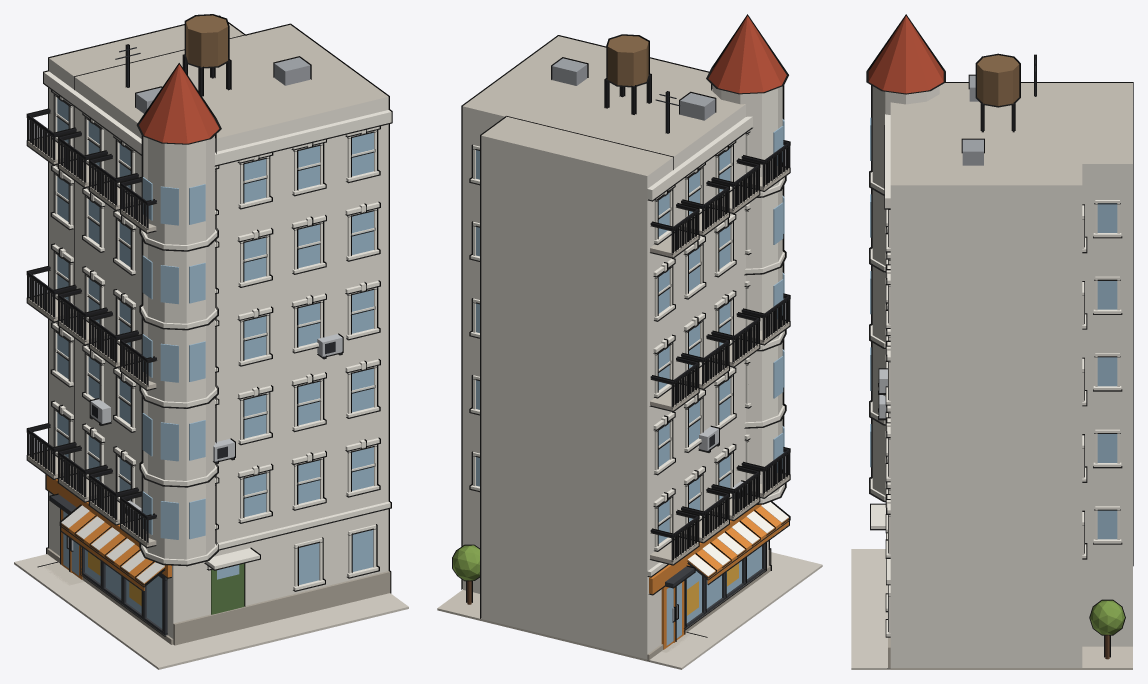
File: Blok_kose_6k_3.fbx
3 views of the same model, side by side, from view 1: azimuth 30°, elevation 25°; view 2: azimuth 150°, elevation 25°; view 3: azimuth 270°, elevation 25° (orthographic). The views are drawn at different scales.
Visible parts, largest first — view 1: Blok_kose_6k_3; view 2: Blok_kose_6k_3; view 3: Blok_kose_6k_3.
Part boxes in pixels (bbox=[...]): Blok_kose_6k_3: bbox=[14, 14, 408, 669]; Blok_kose_6k_3: bbox=[437, 14, 822, 669]; Blok_kose_6k_3: bbox=[851, 14, 1133, 669].
Bounding box in the file's own units: 10.03 × 22.01 × 10.03.
